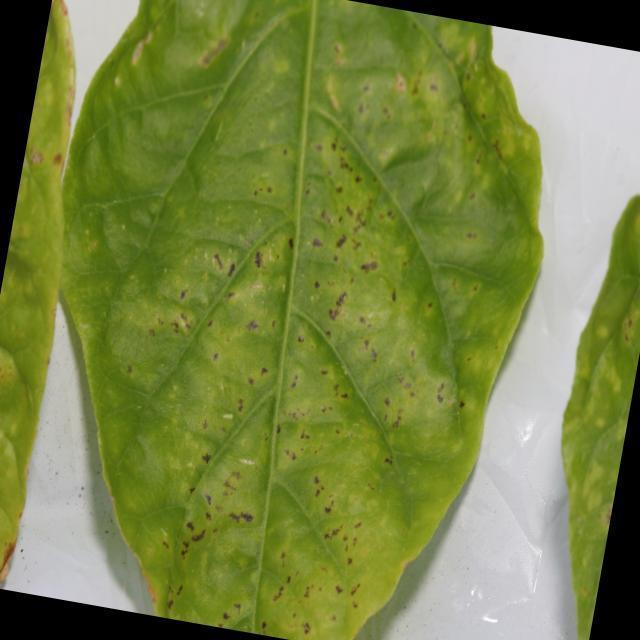Bacterial Spot: (71, 55, 513, 640)
